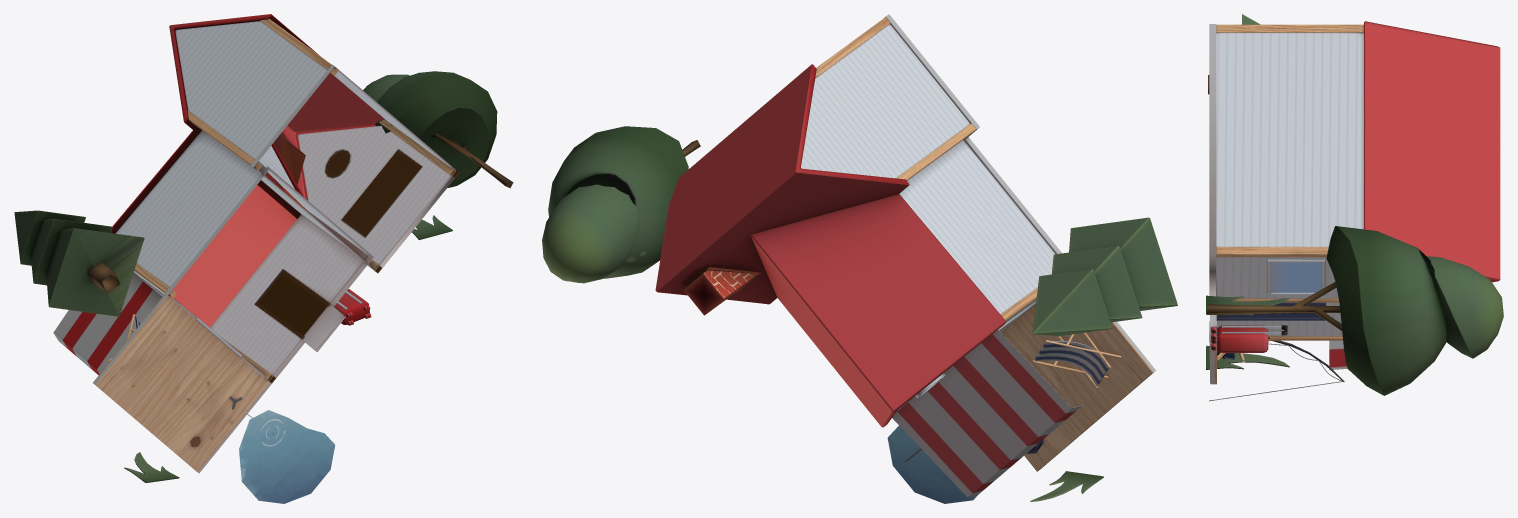
Rendered from retirement.glb.
3 views of the same model, side by side, from view 1: azimuth 30°, elevation 25°; view 2: azimuth 150°, elevation 25°; view 3: azimuth 270°, elevation 25° (orthographic). The views are drawn at different scales.
Parts seen in each view (by area): view 1: MaisonRetraite, Arbres_Retraite; view 2: MaisonRetraite, Arbres_Retraite; view 3: MaisonRetraite, Arbres_Retraite.
Boxes of the visible parts, x1=… form: MaisonRetraite: x1=53, y1=14, x2=459, y2=503; Arbres_Retraite: x1=14, y1=71, x2=513, y2=482; MaisonRetraite: x1=655, y1=14, x2=1155, y2=503; Arbres_Retraite: x1=542, y1=126, x2=1177, y2=501; MaisonRetraite: x1=1209, y1=21, x2=1500, y2=401; Arbres_Retraite: x1=1206, y1=14, x2=1503, y2=395.
Bounding box in the file's own units: 1.43 × 1.16 × 0.6271.
2 materials, 2 textured.
